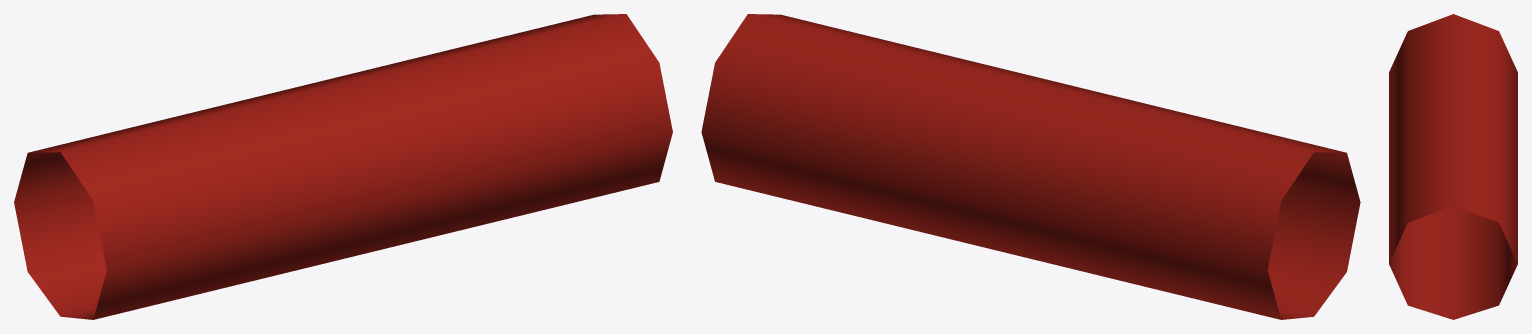
File: Pipe_1_E_1_1.fbx
3 views of the same model, side by side, from view 1: azimuth 30°, elevation 25°; view 2: azimuth 150°, elevation 25°; view 3: azimuth 270°, elevation 25° (orthographic). The views are drawn at different scales.
Parts seen in each view (by area): view 1: Pipe_1_E_1_1; view 2: Pipe_1_E_1_1; view 3: Pipe_1_E_1_1.
Boxes of the visible parts, box(x1,y1,x2,y2) form: Pipe_1_E_1_1: box(14, 14, 672, 319); Pipe_1_E_1_1: box(701, 14, 1360, 319); Pipe_1_E_1_1: box(1389, 14, 1517, 319).
Size of the model in its own units: 76.72 by 21.31 by 21.8.
